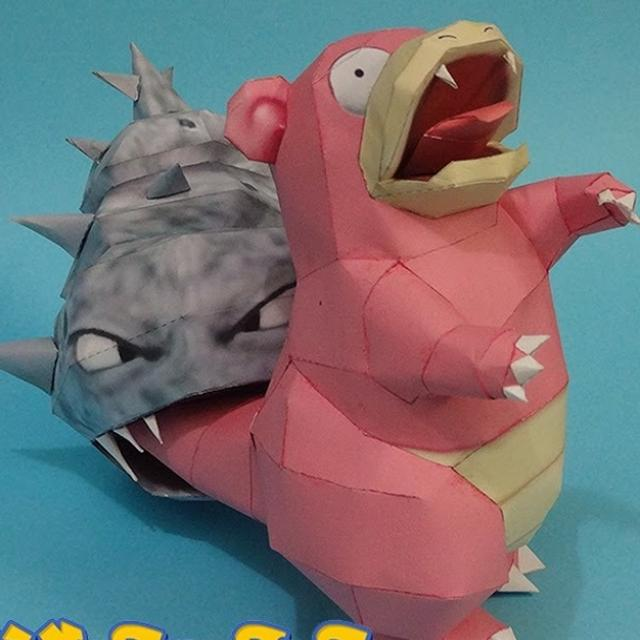Slowbro: (217, 15, 584, 618)
